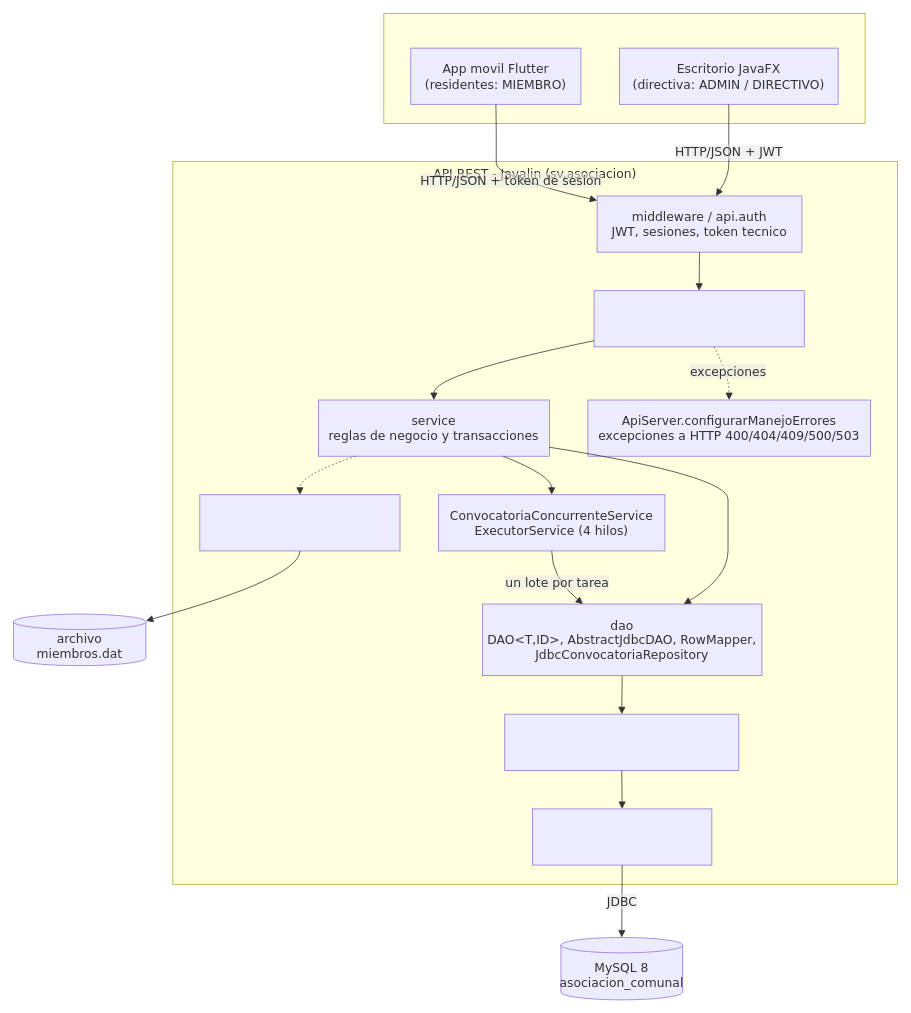
Some shapes in this 911 by 1013 pixel diagram are drawn without their labels. Each missing label, with the box of its shape:
Clientes: (383, 13, 865, 124)
config DBConnection + DataSourceConfig: (504, 713, 739, 770)
controller rutas HTTP y codigos de exito: (593, 290, 804, 347)
dao.archivo persistencia .dat (Avance 2): (199, 494, 400, 551)
Tomcat JDBC Pool maxActive 20, minIdle 4: (532, 808, 712, 865)
